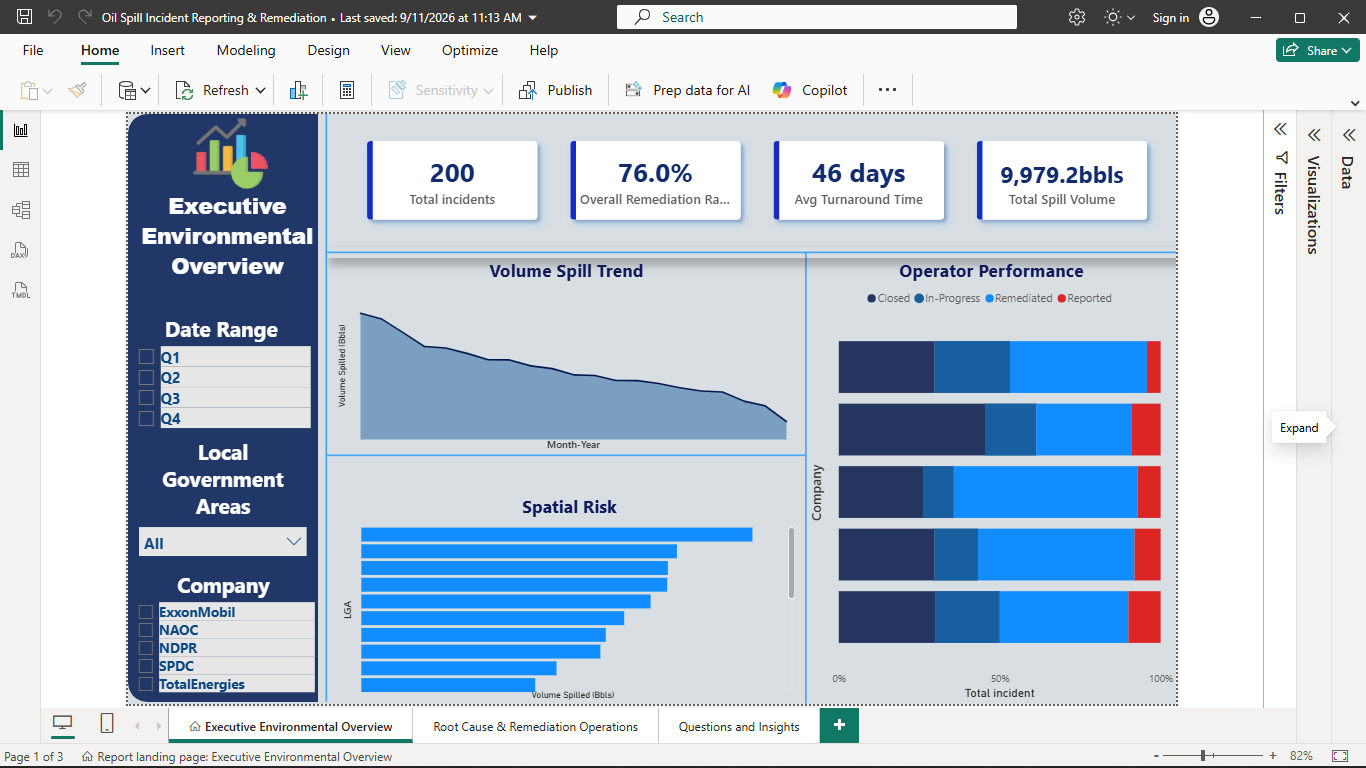

This screenshot's page, from the dashboard's own definition file:
{"tool":"powerbi","page":{"name":"Executive Environmental Overview","canvas":[1280,720],"ordinal":0},"visuals":[{"type":"shape","box":[259,1.7,1021,156.4],"z":0},{"type":"cardVisual","fields":{"Data":["DAX.Total incident","DAX.Overall Remediation Rate %","DAX.Avg Turnaround Time","DAX.Total Spill Volume"]},"box":[258.9,0,1021,162.5],"z":1000},{"type":"shape","box":[259,176.6,560.1,543.3],"z":2000},{"type":"lineChart","title":"Volume Spill Trend","fields":{"Category":["Date.Month Year"],"Y":["Sum(Rivers_spills.Volume_Spilled_Bbls)"]},"box":[259,176.6,560.1,230.4],"z":3000},{"type":"clusteredBarChart","title":"Spatial Risk","fields":{"Category":["Rivers_spills.LGA"],"Y":["Sum(Rivers_spills.Volume_Spilled_Bbls)"]},"box":[259.1,424.9,559.7,295.4],"z":4000},{"type":"shape","box":[259.1,407,567.5,18.3],"z":5000},{"type":"shape","box":[0,0,232.4,717.6],"z":6000},{"type":"shape","box":[843.5,176,436.5,545],"z":7000},{"type":"shape","box":[819.9,169.8,14.4,550.2],"z":8000},{"type":"shape","box":[242,162.5,1037.9,13.2],"z":9000},{"type":"hundredPercentStackedBarChart","title":"Operator Performance","fields":{"Category":["Rivers_spills.Company"],"Y":["DAX.Total incident"],"Series":["Rivers_spills.Status"]},"box":[844,175.8,436.5,543.5],"z":10000},{"type":"textbox","box":[9.6,2.4,223.3,175.3],"z":11000},{"type":"slicer","title":"Local Government Areas","fields":{"Values":["Rivers_spills.LGA"]},"box":[8.4,360,224.3,177.5],"z":12000},{"type":"slicer","title":"Company ","fields":{"Values":["Rivers_spills.Company"]},"box":[0,547.8,232.4,167.4],"z":13000},{"type":"slicer","title":"Date Range","fields":{"Values":["Date.Quarter"]},"box":[0,210.7,227.6,149.3],"z":14000},{"type":"shape","box":[223.9,0,34.9,717.6],"z":15000},{"type":"image","box":[34.4,1.4,181.7,63.3],"z":15001},{"type":"image","box":[148.1,210.7,77.1,34.9],"z":15002},{"type":"image","box":[164.9,373.2,53.7,66.1],"z":15003},{"type":"image","box":[447.9,39.7,48.2,50.6],"z":15004},{"type":"image","box":[140.9,537,75.9,39.7],"z":15005},{"type":"image","box":[703.1,39.7,42.1,50.6],"z":15006},{"type":"image","box":[948.8,39.7,47,50.6],"z":15007},{"type":"image","box":[1200.4,39.7,40.9,50.6],"z":15008},{"type":"image","box":[1083.1,175.3,158.5,69.6],"z":15009},{"type":"image","box":[417.9,425.1,124.9,45.6],"z":15010}]}

Visuals, with their boxes on the page's 1280x720 design canvas (x1, y1, x2, y2). These are canvas units, not pixel positions in the 1366x768 screenshot, which may show the page scaled, cropped or inside an application window:
shape: bbox(259, 2, 1280, 158)
cardVisual - DAX.Total incident x DAX.Overall Remediation Rate %: bbox(259, 0, 1280, 162)
shape: bbox(259, 177, 819, 720)
"Volume Spill Trend" lineChart: bbox(259, 177, 819, 407)
"Spatial Risk" clusteredBarChart: bbox(259, 425, 819, 720)
shape: bbox(259, 407, 827, 425)
shape: bbox(0, 0, 232, 718)
shape: bbox(844, 176, 1280, 721)
shape: bbox(820, 170, 834, 720)
shape: bbox(242, 162, 1280, 176)
"Operator Performance" hundredPercentStackedBarChart: bbox(844, 176, 1280, 719)
textbox: bbox(10, 2, 233, 178)
"Local Government Areas" slicer: bbox(8, 360, 233, 538)
"Company " slicer: bbox(0, 548, 232, 715)
"Date Range" slicer: bbox(0, 211, 228, 360)
shape: bbox(224, 0, 259, 718)
image: bbox(34, 1, 216, 65)
image: bbox(148, 211, 225, 246)
image: bbox(165, 373, 219, 439)
image: bbox(448, 40, 496, 90)
image: bbox(141, 537, 217, 577)
image: bbox(703, 40, 745, 90)
image: bbox(949, 40, 996, 90)
image: bbox(1200, 40, 1241, 90)
image: bbox(1083, 175, 1242, 245)
image: bbox(418, 425, 543, 471)
